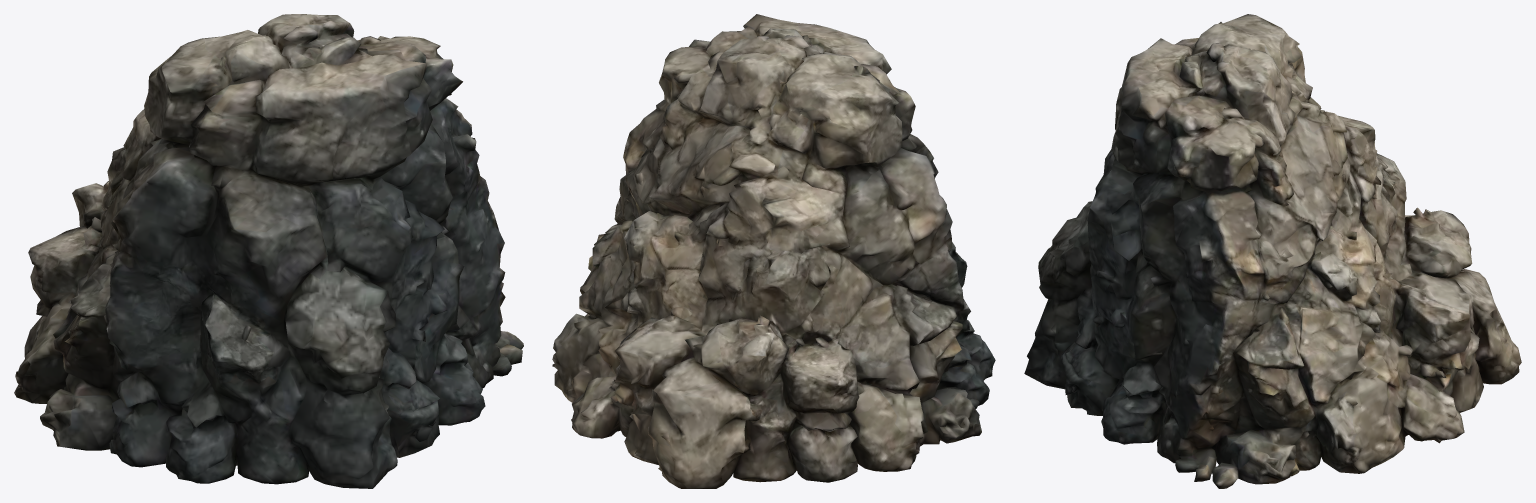
The model's file is bg_cliff.glb.
The picture shows the model from 3 angles, left to right: view 1: azimuth 30°, elevation 25°; view 2: azimuth 150°, elevation 25°; view 3: azimuth 270°, elevation 25°; orthographic projection. The views are drawn at different scales.
Visible parts, largest first — view 1: tripo_node_663f52a8-f359-4434-baea-a12606b63ee3; view 2: tripo_node_663f52a8-f359-4434-baea-a12606b63ee3; view 3: tripo_node_663f52a8-f359-4434-baea-a12606b63ee3.
Part boxes in pixels (x1,y1,x2,y2): tripo_node_663f52a8-f359-4434-baea-a12606b63ee3: [14, 14, 523, 488]; tripo_node_663f52a8-f359-4434-baea-a12606b63ee3: [552, 14, 995, 488]; tripo_node_663f52a8-f359-4434-baea-a12606b63ee3: [1024, 14, 1521, 488].
Size of the model in its own units: 0.9576 by 0.7667 by 1.
Materials: 1 (1 with a texture image).
